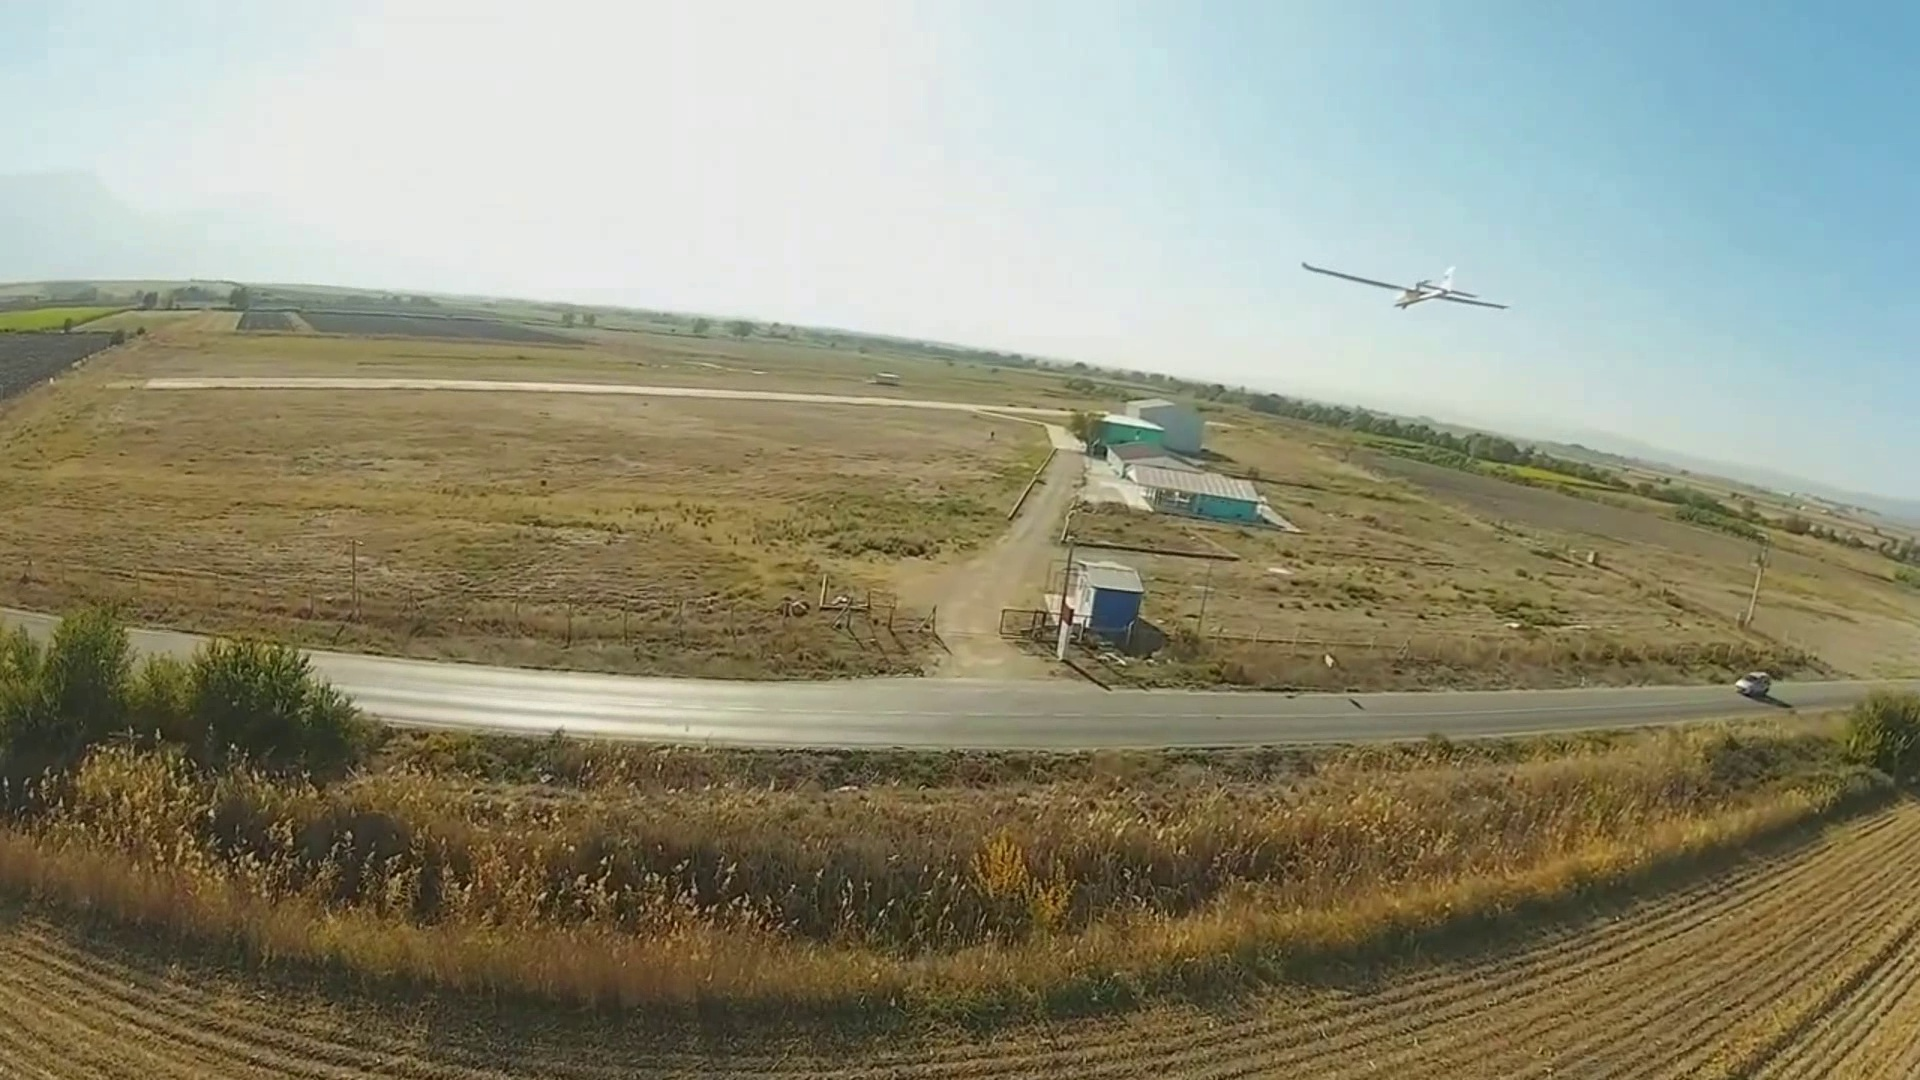airplane: (1302, 258, 1513, 315)
